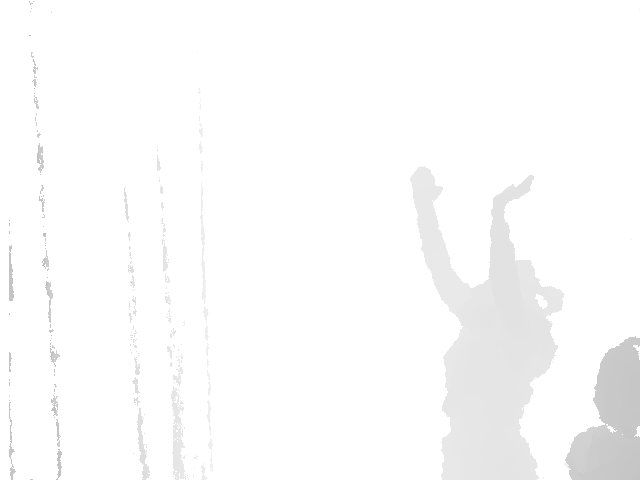hand: (491, 172, 536, 210), (408, 163, 443, 210)
head: (594, 329, 640, 439), (495, 255, 564, 324)
person: (405, 162, 564, 480), (565, 315, 640, 480)
